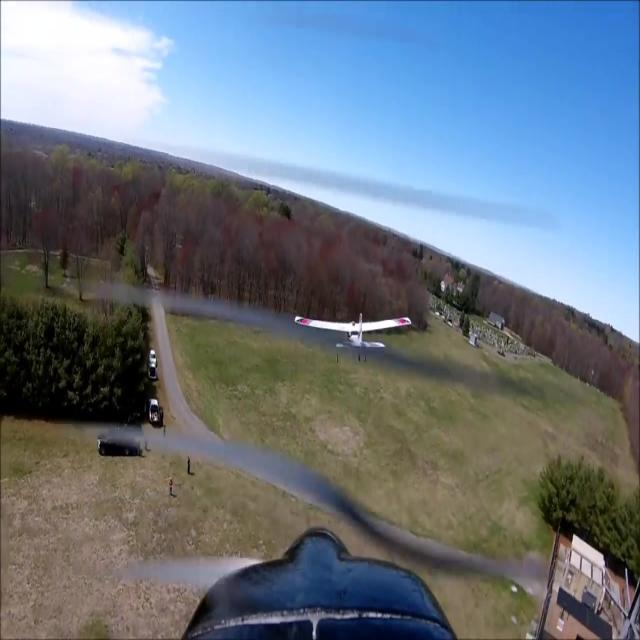iha: (325, 305, 379, 344)
